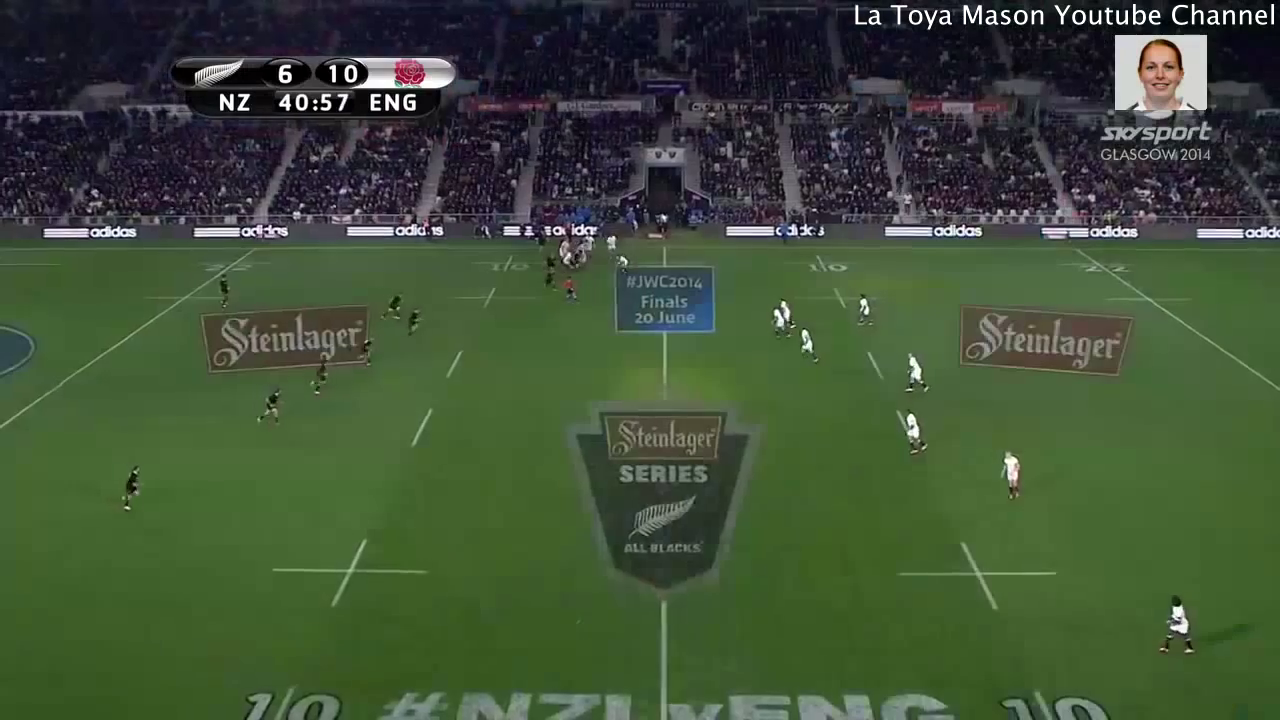10_metre: (888, 535, 1072, 624), (265, 536, 435, 614), (990, 680, 1137, 720), (230, 680, 366, 720), (794, 283, 888, 316), (783, 249, 867, 277), (450, 284, 540, 310), (470, 252, 543, 273)
player: (1152, 589, 1206, 666), (893, 403, 933, 463), (996, 437, 1027, 510), (297, 351, 336, 401), (898, 348, 933, 399), (251, 382, 287, 430), (117, 458, 145, 517), (794, 322, 821, 369), (351, 333, 379, 371), (379, 286, 405, 326), (213, 270, 234, 314), (765, 305, 789, 340), (853, 291, 874, 330), (777, 296, 797, 333), (403, 304, 424, 339), (562, 275, 584, 306), (540, 265, 559, 296), (613, 248, 633, 275), (583, 231, 598, 264), (603, 234, 621, 260), (555, 235, 569, 261), (543, 250, 558, 271), (560, 247, 573, 268)
